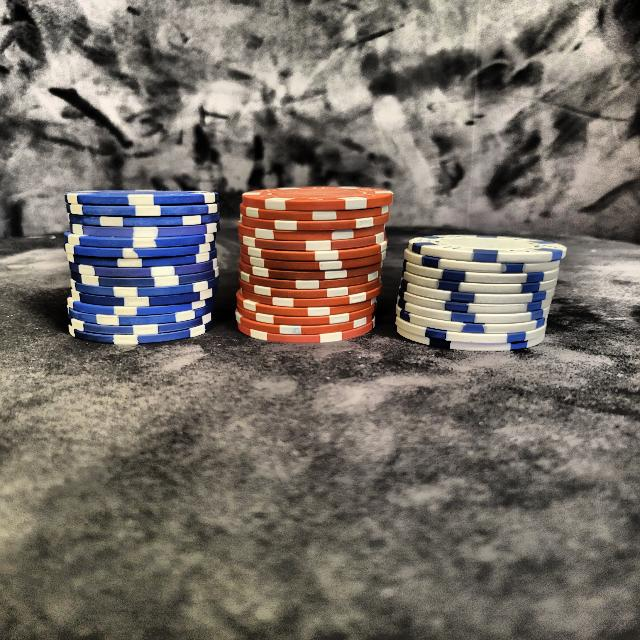Chip: (62, 168, 224, 362), (234, 166, 391, 357), (400, 220, 571, 364)
